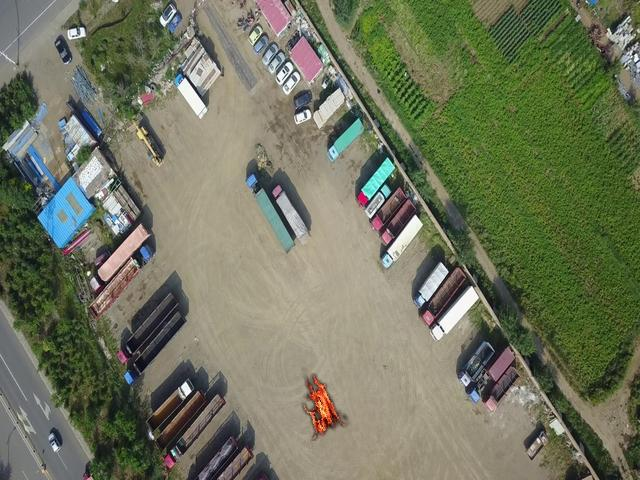fire: (300, 363, 350, 439)
